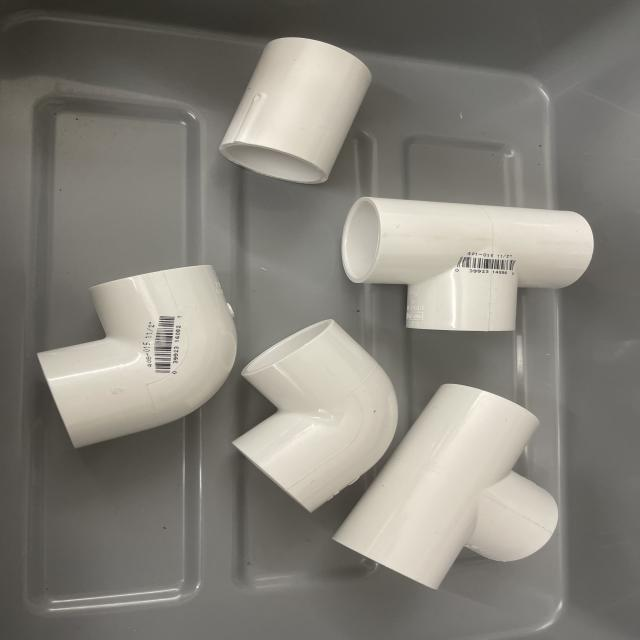L Joint: (39, 265, 239, 449), (232, 321, 401, 514)
T Joint: (334, 384, 557, 591), (341, 197, 597, 335)
